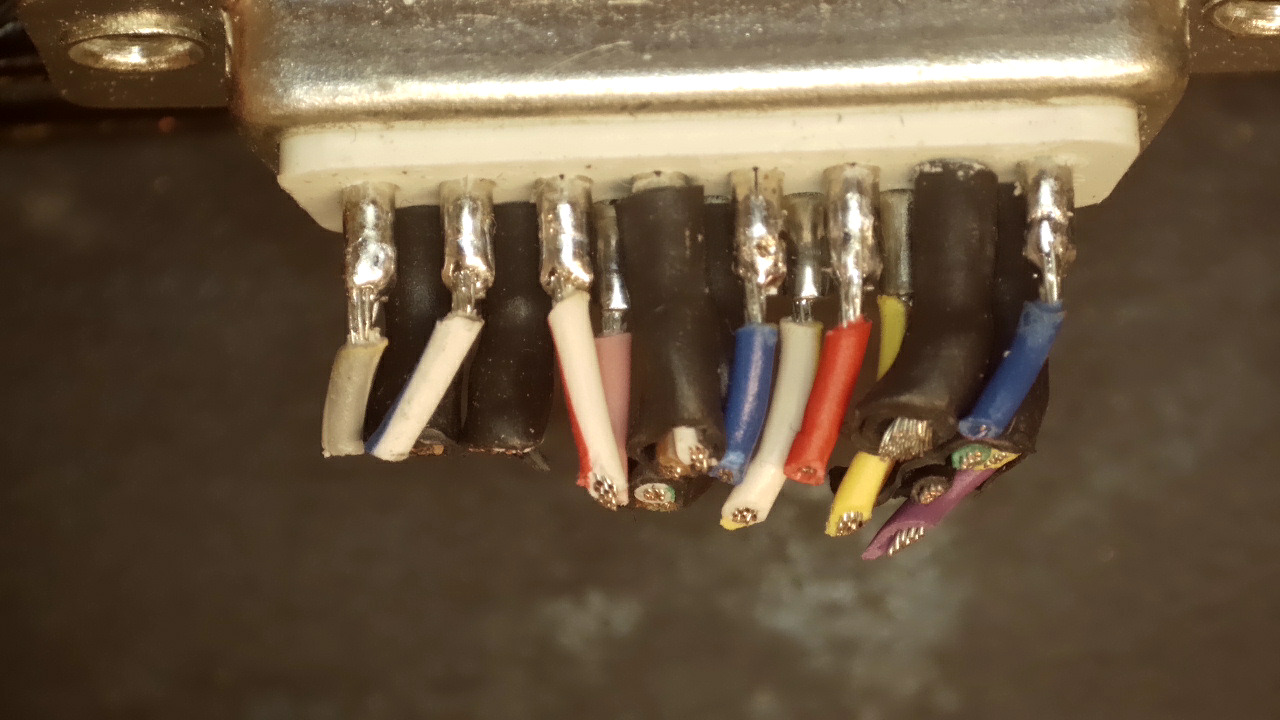bad_weld: (807, 142, 906, 338), (714, 142, 797, 361), (1021, 147, 1105, 345), (421, 152, 505, 349), (322, 163, 401, 371), (526, 156, 594, 341)
